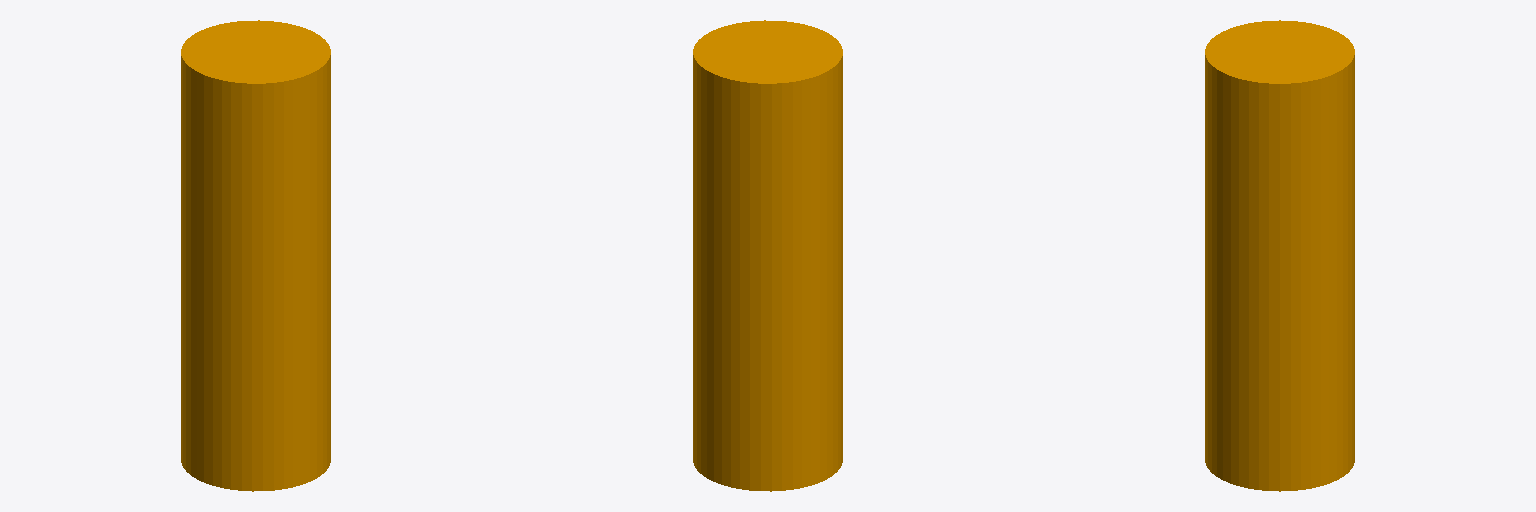
URDF robot description (11.f3d):
<?xml version="1.0" ?>
<robot name="11.f3d">

<material name="silver">
  <color rgba="0.700 0.700 0.700 1.000"/>
</material>

<link name="base_link">
  <inertial>
    <origin xyz="0.0 0.0 0.075" rpy="0 0 0"/>
    <mass value="0.29452431127404316"/>
    <inertia ixx="0.0005982525072754001" iyy="0.0005982525072753975" izz="9.203884727313716e-05" ixy="0.0" iyz="0.0" ixz="0.0"/>
  </inertial>
  <visual>
    <origin xyz="0 0 0" rpy="0 0 0"/>
    <geometry>
      <mesh filename="meshes/base_link.stl" scale="0.001 0.001 0.001"/>
    </geometry>
    <material name="silver"/>
    <material/>
  </visual>
  <collision>
    <origin xyz="0 0 0" rpy="0 0 0"/>
    <geometry>
      <mesh filename="meshes/base_link.stl" scale="0.001 0.001 0.001"/>
    </geometry>
  </collision>
</link>

</robot>

--- What the picture shows (computed from the rendered views, not written in the file) ---
3 views of the same robot in one strip: view 1: azimuth 30°, elevation 25°; view 2: azimuth 150°, elevation 25°; view 3: azimuth 270°, elevation 25° (orthographic).
Robot: 11.f3d — 1 links, 0 joints (none); root link base_link; default pose: all joints at 0.
Visible links, largest first — view 1: base_link; view 2: base_link; view 3: base_link.
Boxes of the visible links, x1=… form: base_link: x1=181, y1=20, x2=330, y2=491; base_link: x1=693, y1=20, x2=842, y2=491; base_link: x1=1205, y1=20, x2=1354, y2=491.
Size in the robot's own frame: 0.05 by 0.05 by 0.15 metres.
Meshes: 1 distinct files referenced, 1 mesh visuals loaded (1 binary STL).